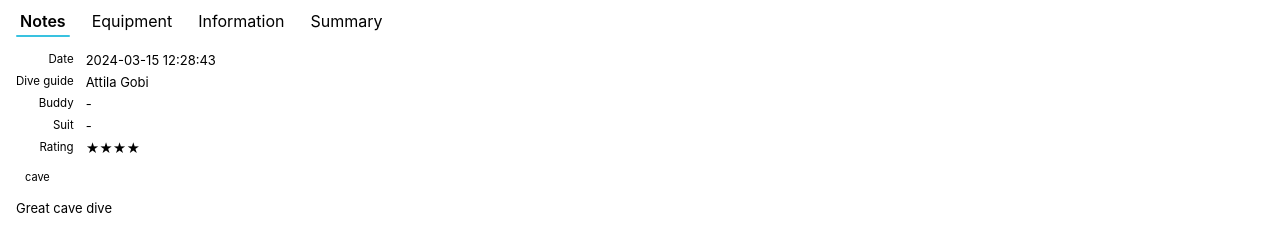
Test: InfoPanel › shows unit-aware headers and converted values in Equipment when units is IMPERIAL
The image size is (1269, 230).
Click the tab "Equipment" at (132, 21), box [80, 6, 184, 36]
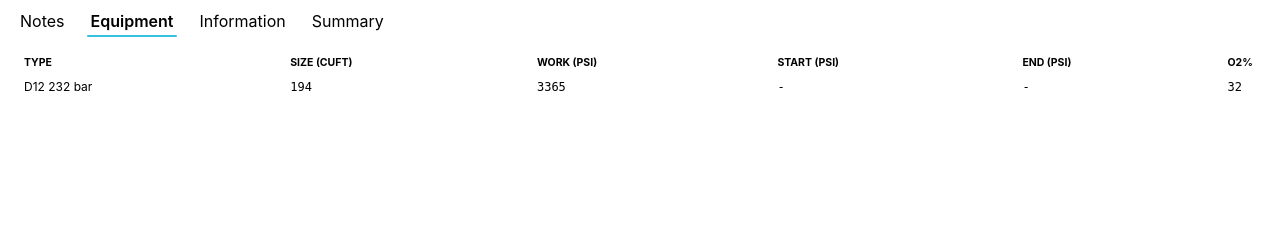
Now the column heading "Size (cuft)" is shown, box [282, 52, 529, 73]
Now the column heading "Work (psi)" is shown, box [529, 52, 769, 73]
Now the text "194" is shown, box [282, 73, 529, 100]
